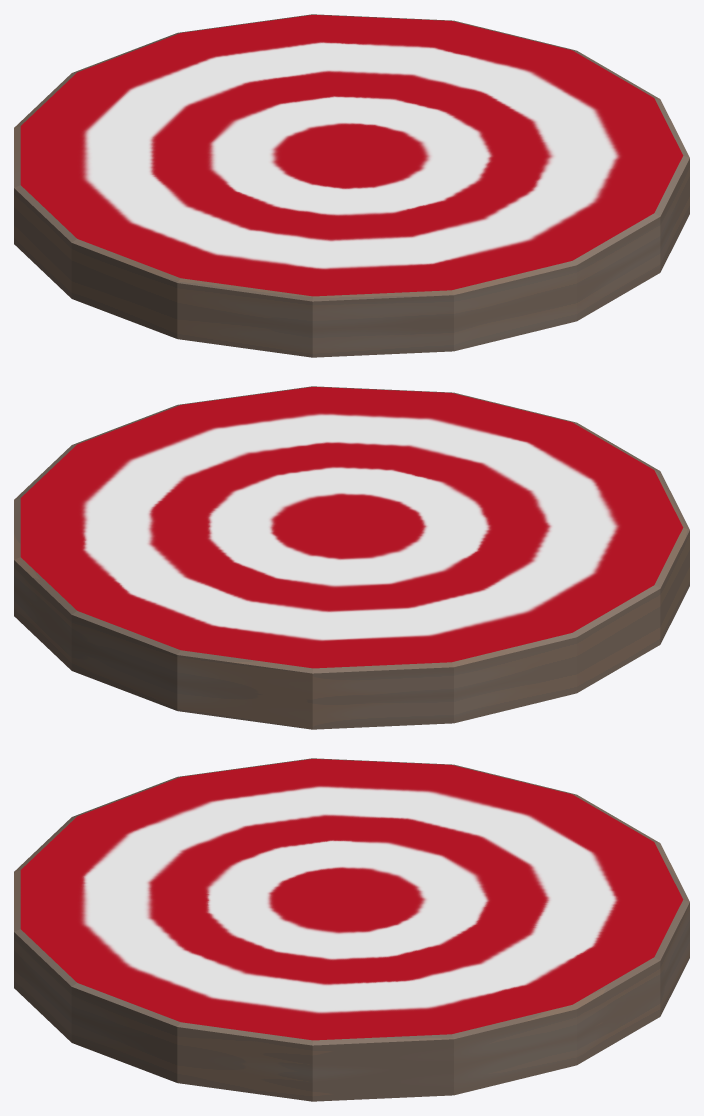
The model's file is TargetModel.fbx.
3 renders of one model, top to bottom at view 1: azimuth 30°, elevation 25°; view 2: azimuth 150°, elevation 25°; view 3: azimuth 270°, elevation 25°, orthographic.
Visible parts, largest first — view 1: Cylinder; view 2: Cylinder; view 3: Cylinder.
Part boxes in pixels (box(x1,y1,x2,y2)): Cylinder: box(14, 14, 689, 357); Cylinder: box(14, 386, 689, 729); Cylinder: box(14, 758, 689, 1101).
Size of the model in its own units: 203 by 20 by 202.
1 material, 1 textured.
